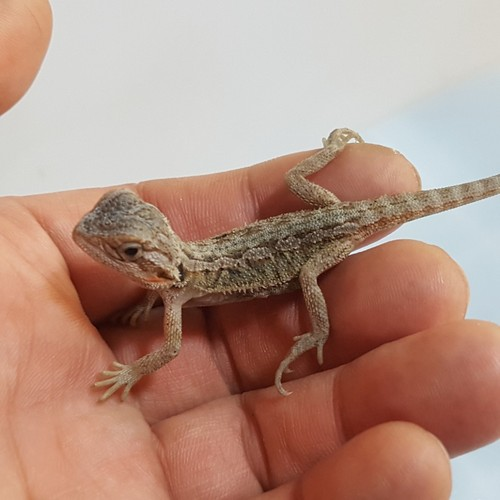bearded: (72, 126, 500, 401)
